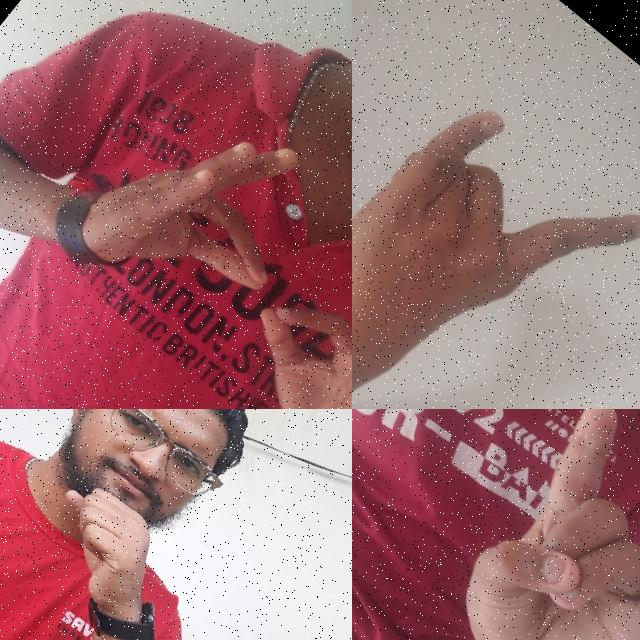Corna: (352, 62, 640, 409), (397, 409, 640, 640)
Fist Mouth: (0, 409, 297, 637)
Okay: (51, 66, 348, 366), (193, 228, 352, 409)
